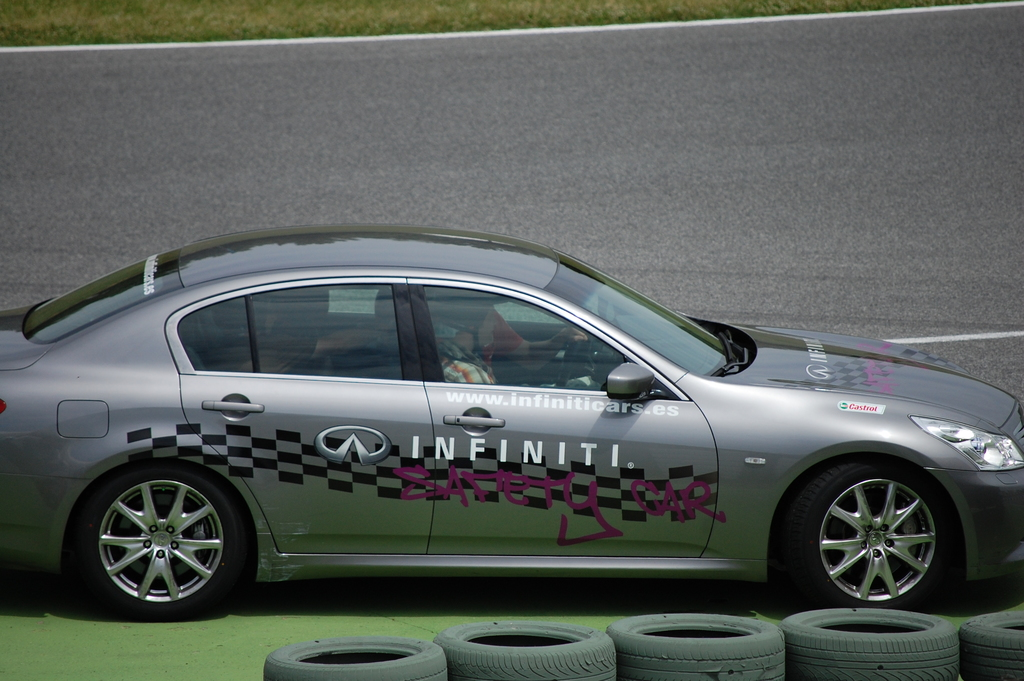Car: (0, 223, 1024, 620)
